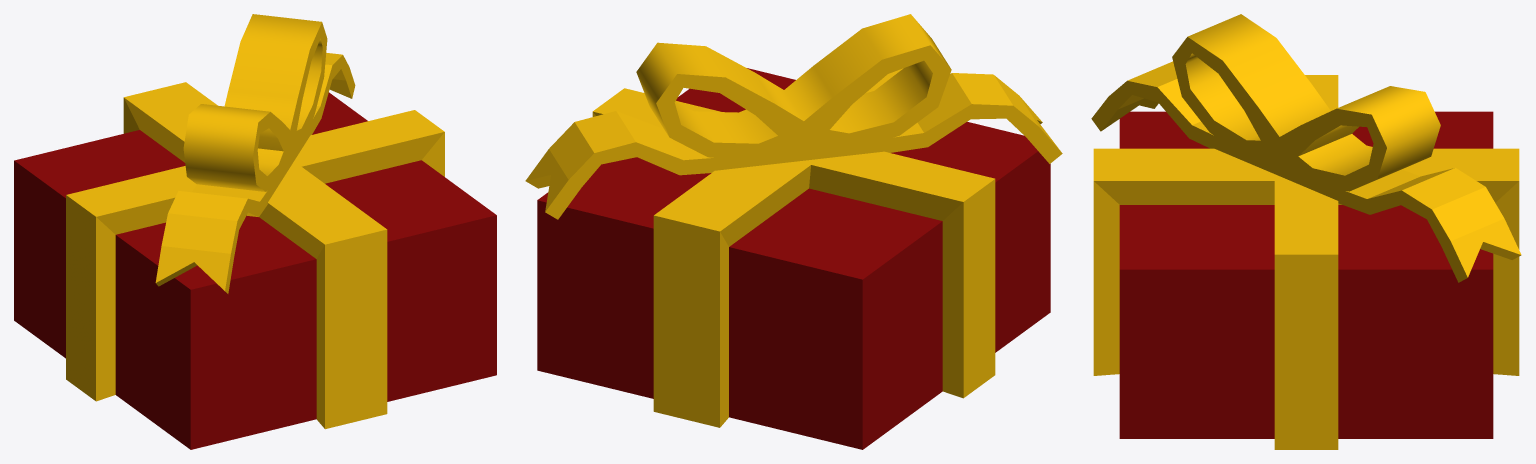
Rendered from Presents9.fbx.
3 renders of one model, left to right at view 1: azimuth 30°, elevation 25°; view 2: azimuth 150°, elevation 25°; view 3: azimuth 270°, elevation 25°, orthographic. The views are drawn at different scales.
Parts seen in each view (by area): view 1: Present9; view 2: Present9; view 3: Present9.
Boxes of the visible parts, x1,y1,x2,y2 form: Present9: [14, 14, 496, 449]; Present9: [525, 14, 1062, 449]; Present9: [1091, 14, 1521, 449].
Size of the model in its own units: 46.08 by 34.94 by 46.08.
